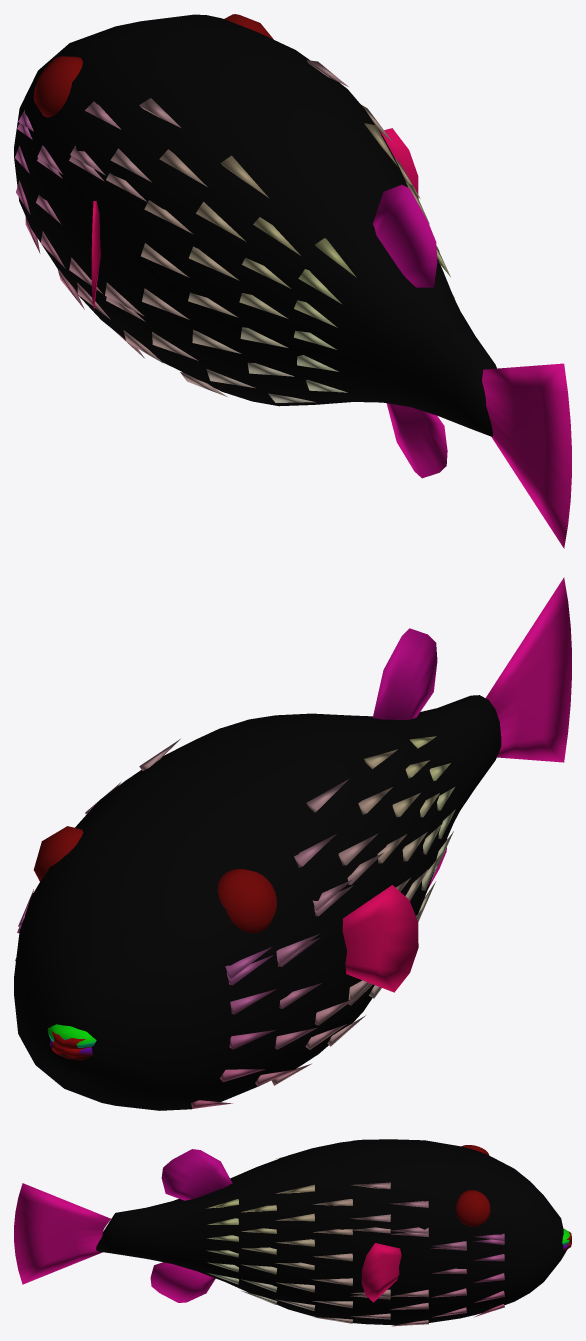
Rendered from pufferfish_game.glb.
The picture shows the model from 3 angles, top to bottom: view 1: azimuth 30°, elevation 25°; view 2: azimuth 150°, elevation 25°; view 3: azimuth 270°, elevation 25°; orthographic projection. The views are drawn at different scales.
Parts seen in each view (by area): view 1: pufferfish_game; view 2: pufferfish_game; view 3: pufferfish_game.
Boxes of the visible parts, <box> form: pufferfish_game: <box>14,14,571,548</box>; pufferfish_game: <box>14,577,571,1110</box>; pufferfish_game: <box>14,1139,571,1326</box>.
Size of the model in its own units: 0.1121 by 0.0993 by 0.3022.
